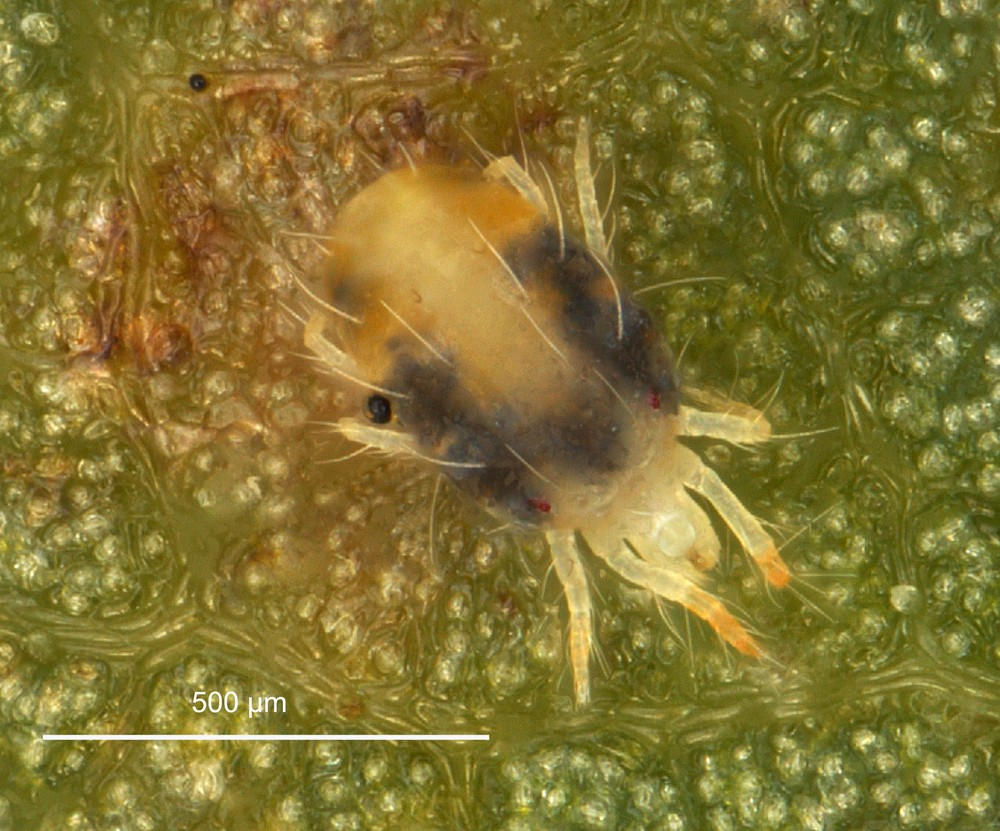Aracnido Rojo: (250, 117, 827, 684)
